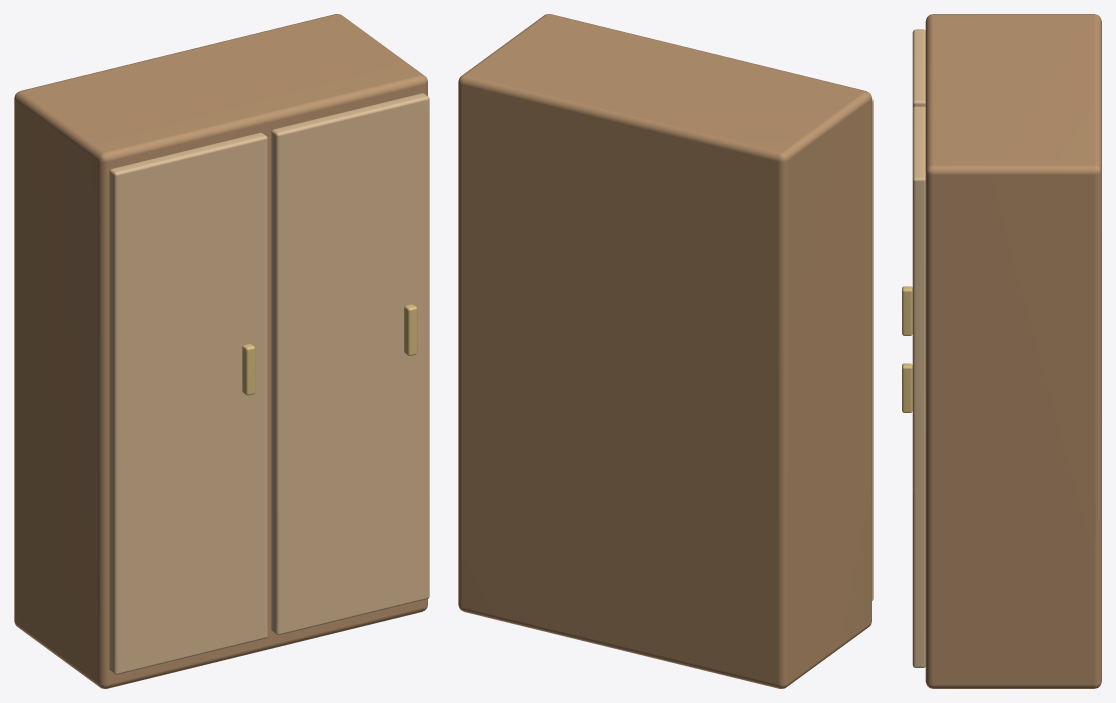
Rendered from alpha_wardrobe.glb.
3 renders of one model, left to right at view 1: azimuth 30°, elevation 25°; view 2: azimuth 150°, elevation 25°; view 3: azimuth 270°, elevation 25°, orthographic. The views are drawn at different scales.
Parts seen in each view (by area): view 1: Alpha_lightwood, Alpha_oak, Alpha_gold; view 2: Alpha_oak, Alpha_lightwood; view 3: Alpha_oak, Alpha_lightwood, Alpha_gold.
Boxes of the visible parts, box(x1,y1,x2,y2) form: Alpha_lightwood: box(109, 93, 429, 674); Alpha_oak: box(14, 14, 427, 688); Alpha_gold: box(242, 304, 417, 395); Alpha_oak: box(458, 14, 871, 688); Alpha_lightwood: box(872, 98, 873, 600); Alpha_oak: box(925, 14, 1101, 688); Alpha_lightwood: box(912, 29, 925, 667); Alpha_gold: box(902, 286, 912, 412).
Size of the model in its own units: 1.22 by 1.9 by 0.6575.
